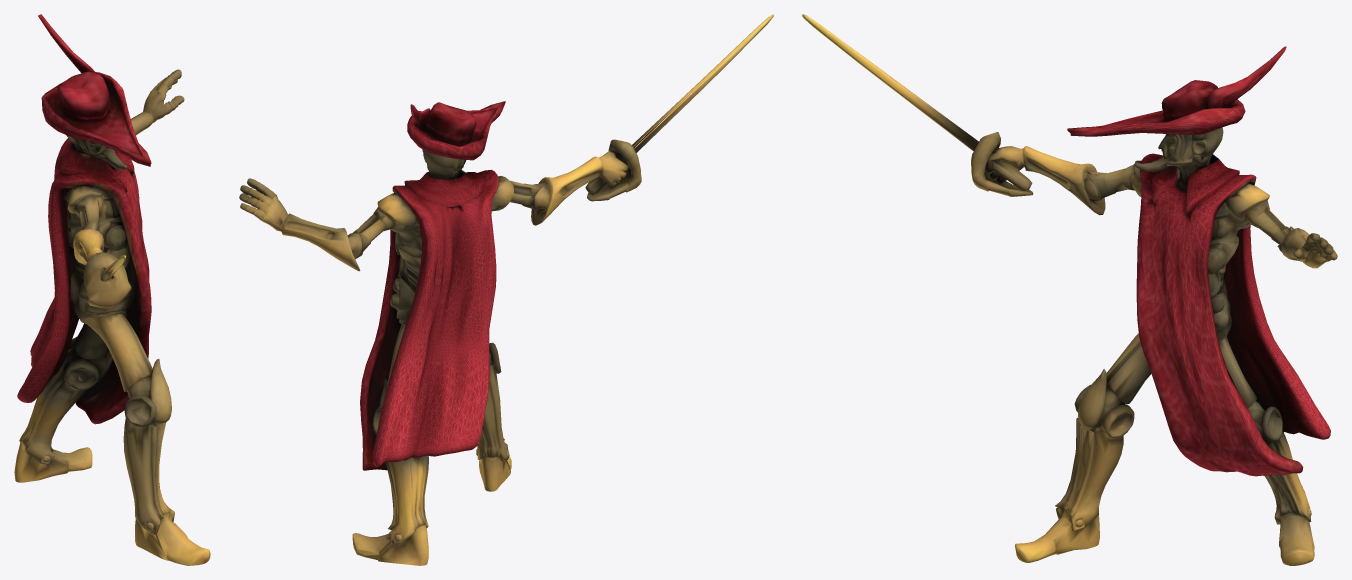
File: MZ4250 - Nimblewright.glb
The picture shows the model from 3 angles, left to right: view 1: azimuth 30°, elevation 25°; view 2: azimuth 150°, elevation 25°; view 3: azimuth 270°, elevation 25°; orthographic projection. The views are drawn at different scales.
Visible parts, largest first — view 1: default; view 2: default; view 3: default.
Boxes of the visible parts, x1=… form: default: x1=14, y1=14, x2=210, y2=565; default: x1=239, y1=14, x2=773, y2=565; default: x1=802, y1=14, x2=1337, y2=565.
Size of the model in its own units: 0.7887 by 1.16 by 1.15.
1 material, 1 textured.
